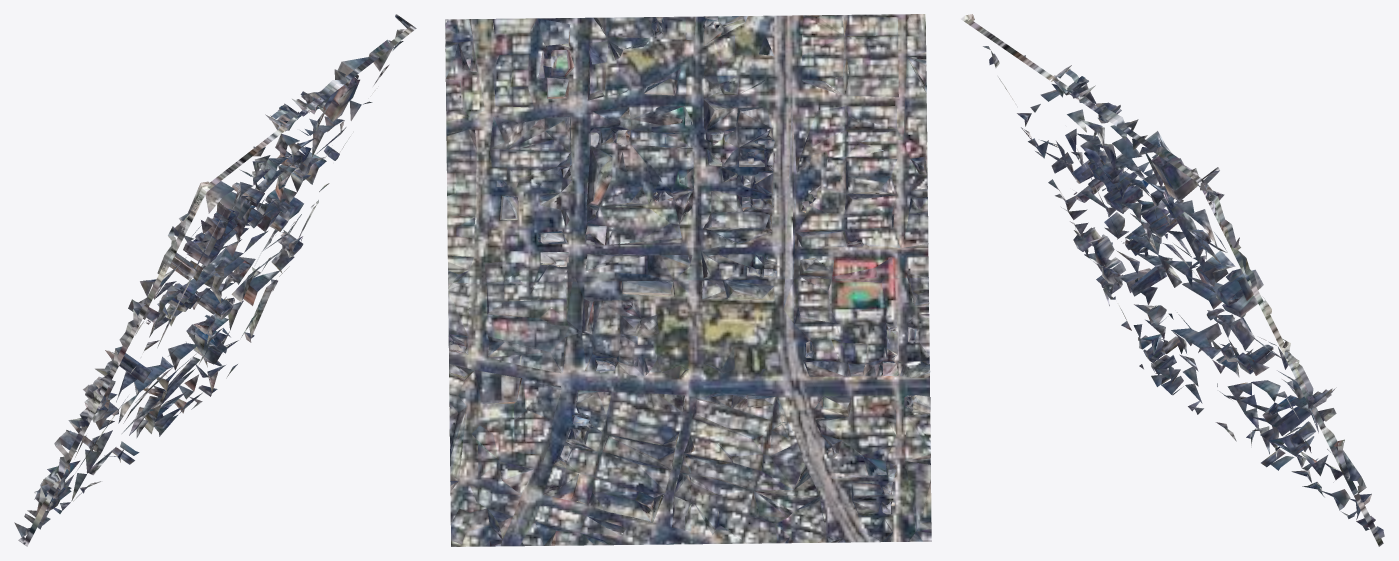
3 views of the same model, side by side, from view 1: azimuth 30°, elevation 25°; view 2: azimuth 150°, elevation 25°; view 3: azimuth 270°, elevation 25° (orthographic). The views are drawn at different scales.
Size of the model in its own units: 1229 by 1137 by 1033.
1 material, 1 textured.
